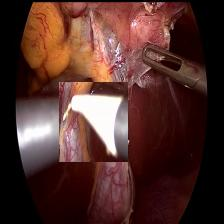Grasper: (140, 32, 204, 88)
Hook: (58, 81, 127, 161)
